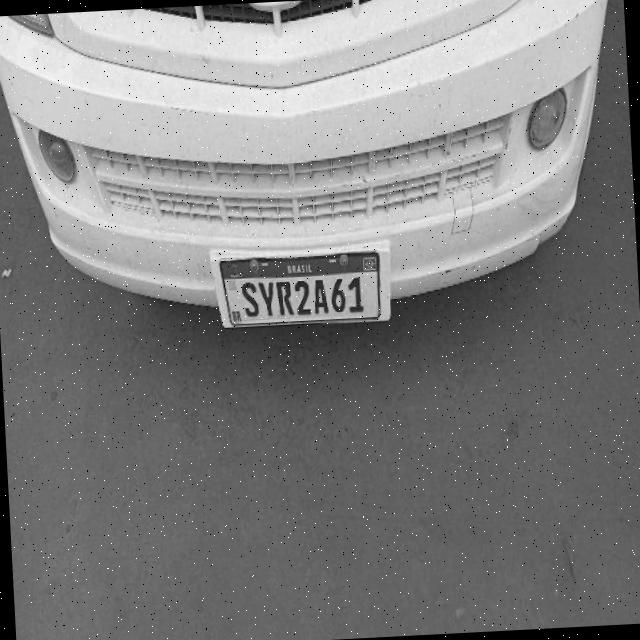placa_mercosul: (218, 252, 389, 327)
